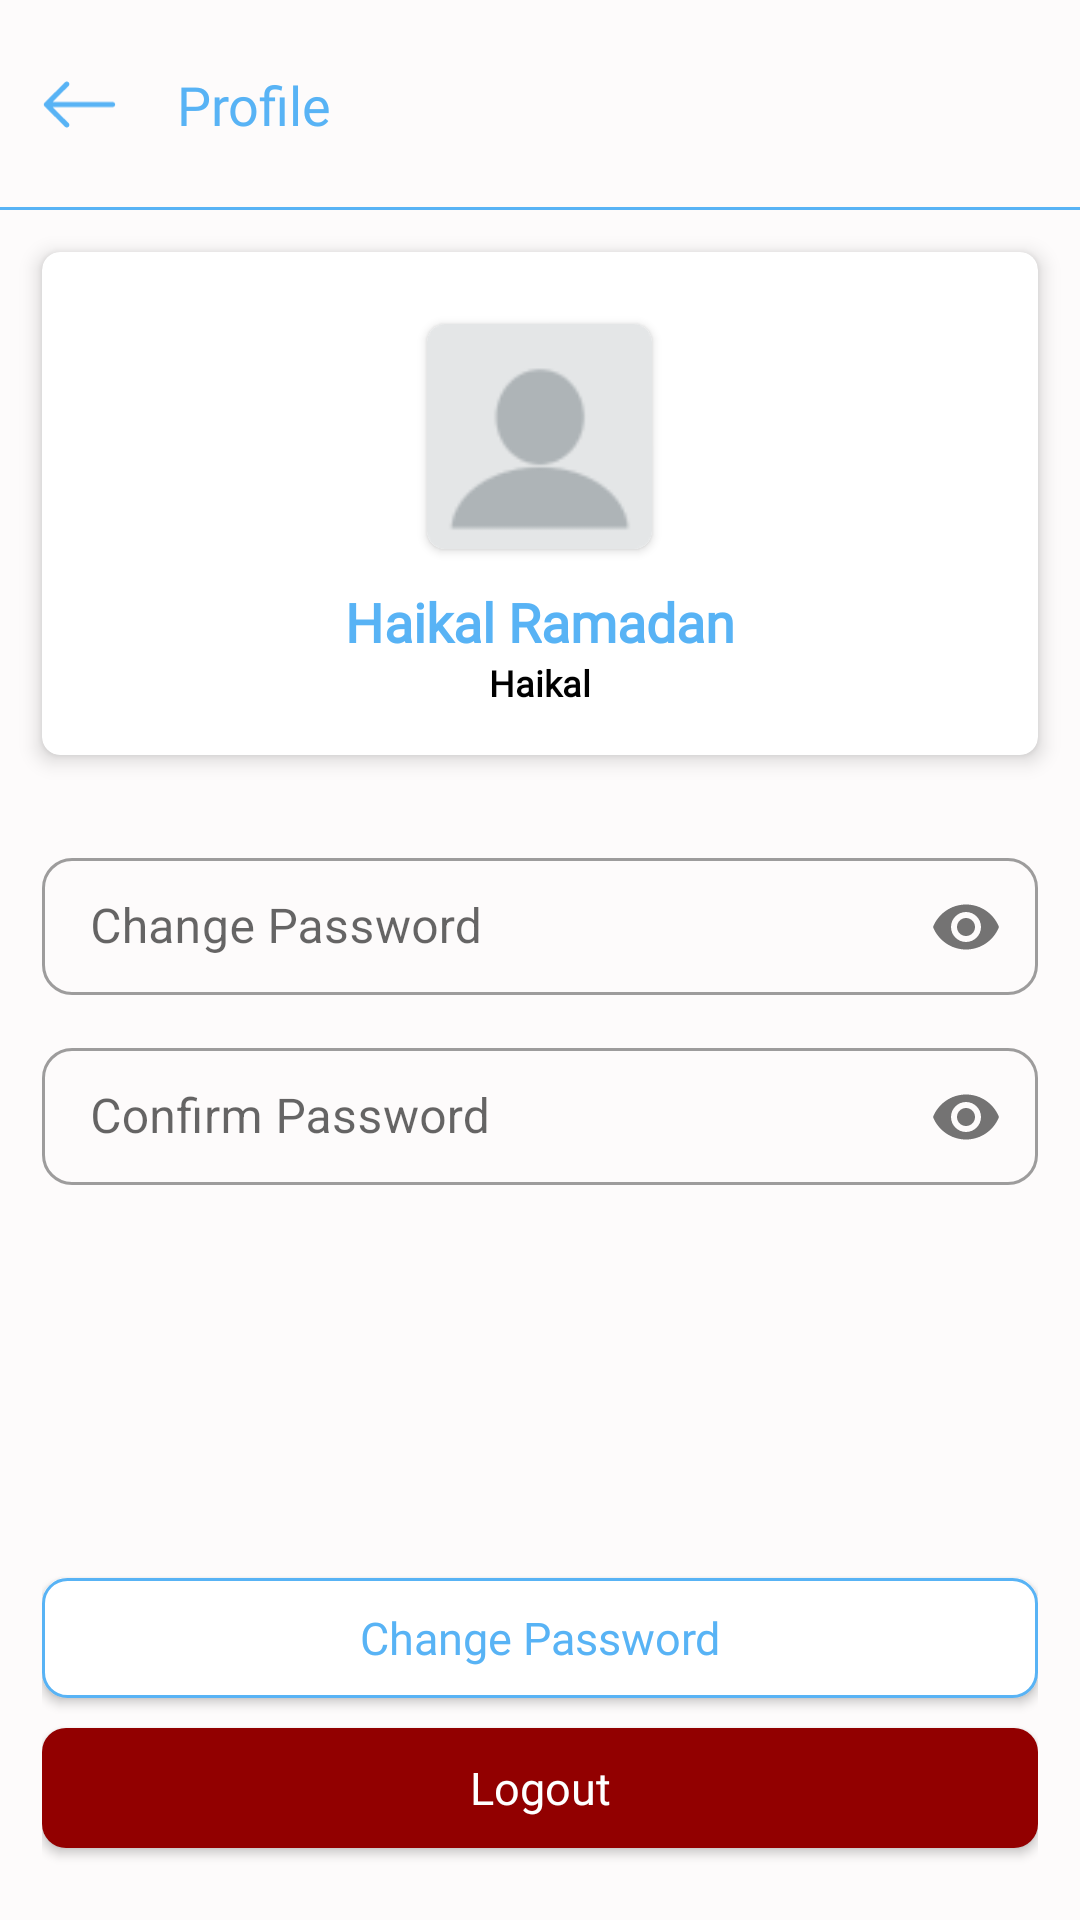

Locate icon controls on the screen. Image size 1080*1920, boxes as (x1, y1, x2, y2).
arrow: (44, 81, 115, 128)
